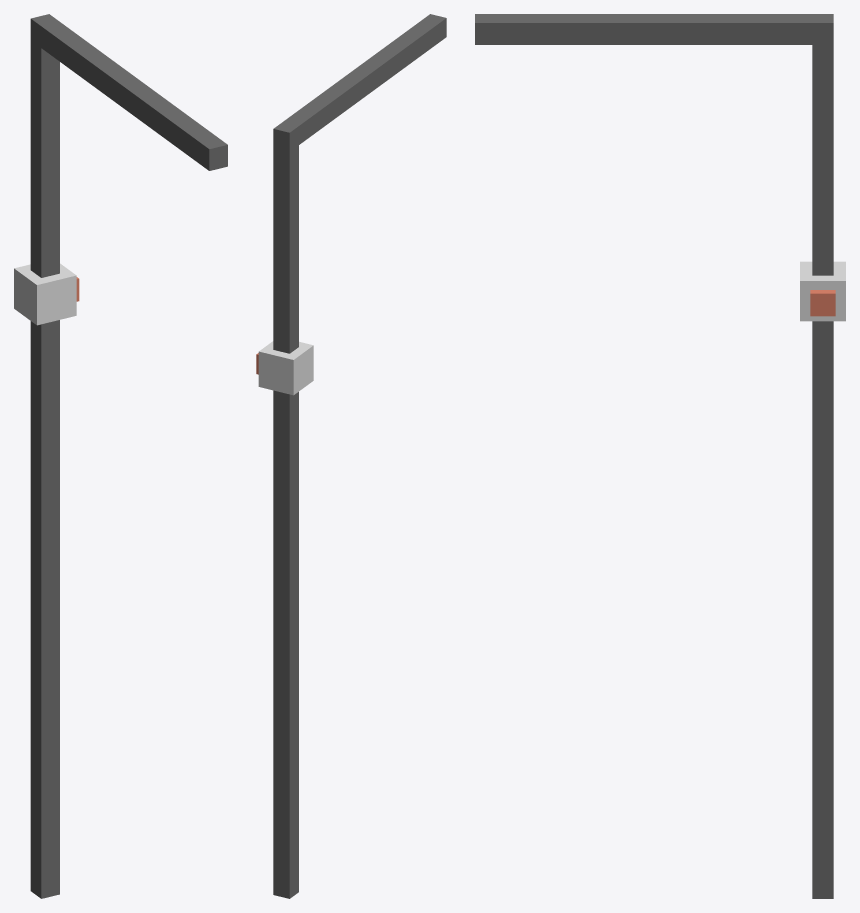
The model's file is tombolgarasi.fbx.
3 views of the same model, side by side, from view 1: azimuth 30°, elevation 25°; view 2: azimuth 150°, elevation 25°; view 3: azimuth 270°, elevation 25° (orthographic). The views are drawn at different scales.
Parts seen in each view (by area): view 1: Cube.078; view 2: Cube.078; view 3: Cube.078.
Boxes of the visible parts, bbox=[...] form: Cube.078: bbox=[14, 14, 227, 898]; Cube.078: bbox=[256, 14, 446, 898]; Cube.078: bbox=[475, 14, 845, 898].
Bounding box in the file's own units: 37.72 × 662 × 254.
